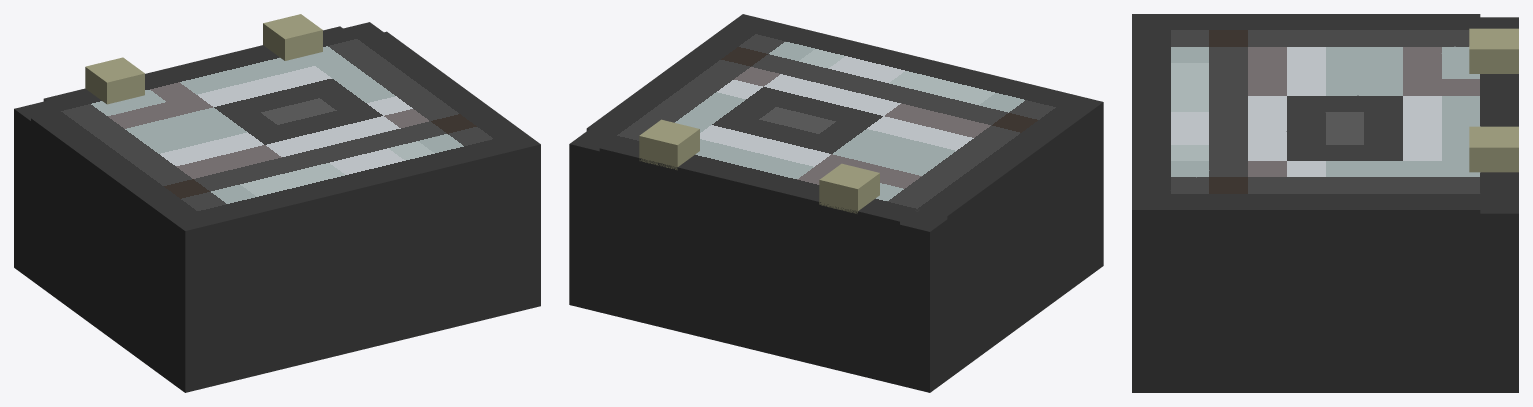
File: CMU3DReduxRMCPowerCell.glb
The picture shows the model from 3 angles, left to right: view 1: azimuth 30°, elevation 25°; view 2: azimuth 150°, elevation 25°; view 3: azimuth 270°, elevation 25°; orthographic projection. The views are drawn at different scales.
Visible parts, largest first — view 1: closed object body, source upper face, battery terminal (×2); view 2: closed object body, source upper face, battery terminal (×2); view 3: source upper face, closed object body, battery terminal (×2).
Part boxes in pixels (box(x1,y1,x2,y2)): closed object body: box(14, 22, 540, 392); source upper face: box(31, 26, 540, 233); battery terminal (×2): box(85, 14, 322, 104); closed object body: box(569, 105, 1103, 392); source upper face: box(586, 14, 1103, 224); battery terminal (×2): box(639, 119, 879, 213); source upper face: box(1132, 14, 1518, 213); closed object body: box(1132, 17, 1518, 392); battery terminal (×2): box(1469, 28, 1518, 172).
Bounding box in the file's own units: 0.375 × 0.185 × 0.3125.
Materials: 3 (1 with a texture image).
